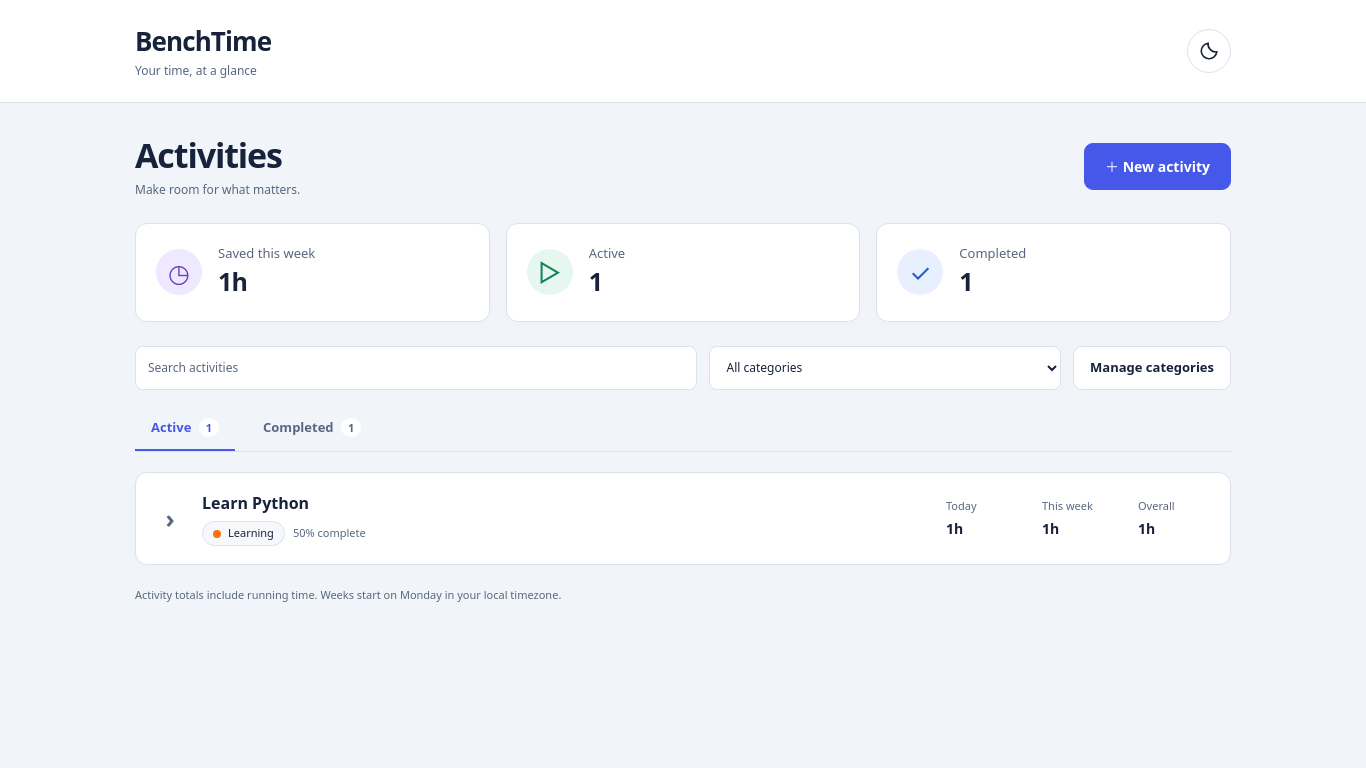
Test: redesigned dashboard › confirms deletion and preserves data on a concurrent timer conflict
What coordinates should you click on to do the following:
click the button with class "disclosure"
I would click on:
 (170, 518)
Its box is [148,496,192,540].
(page scrolled)
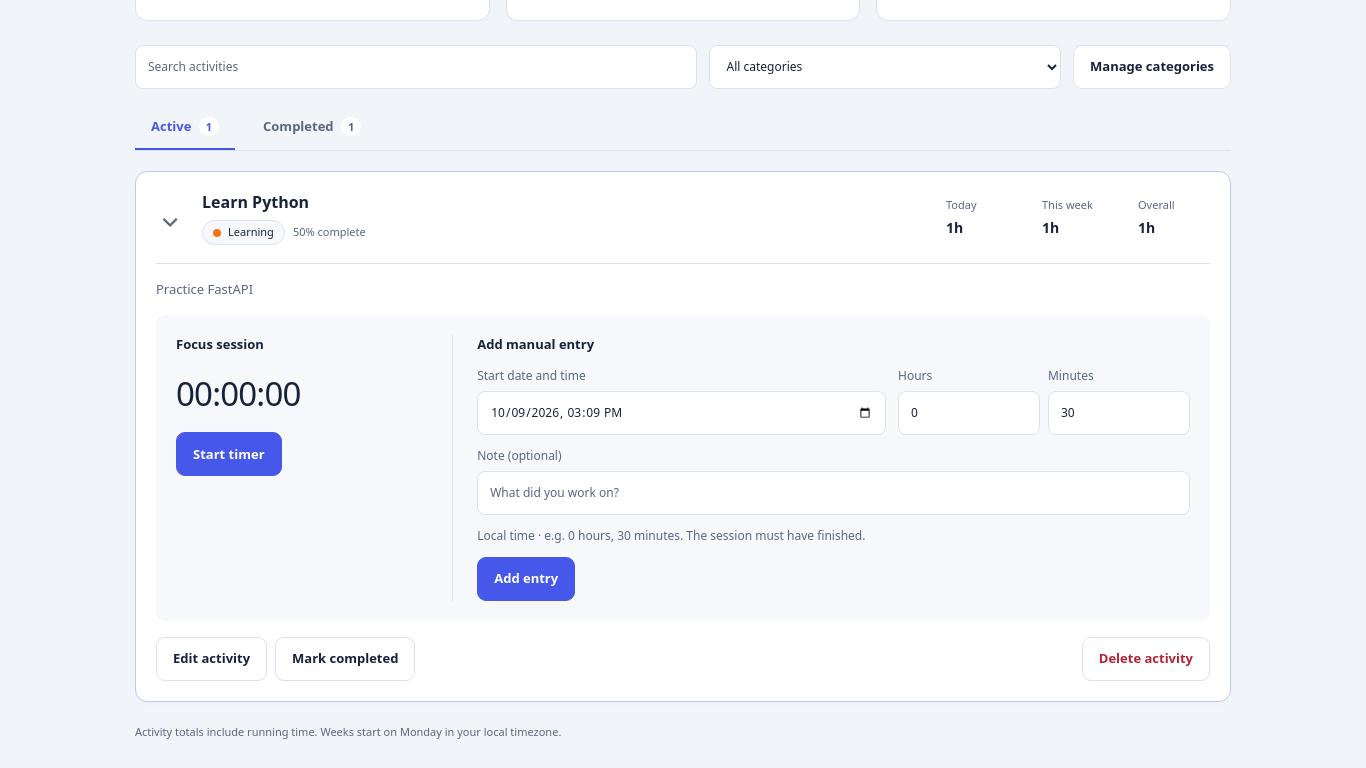
What coordinates should you click on to do the following:
click the button with class "delete-button"
I would click on:
 (1146, 659)
Its box is [1082,637,1210,681].
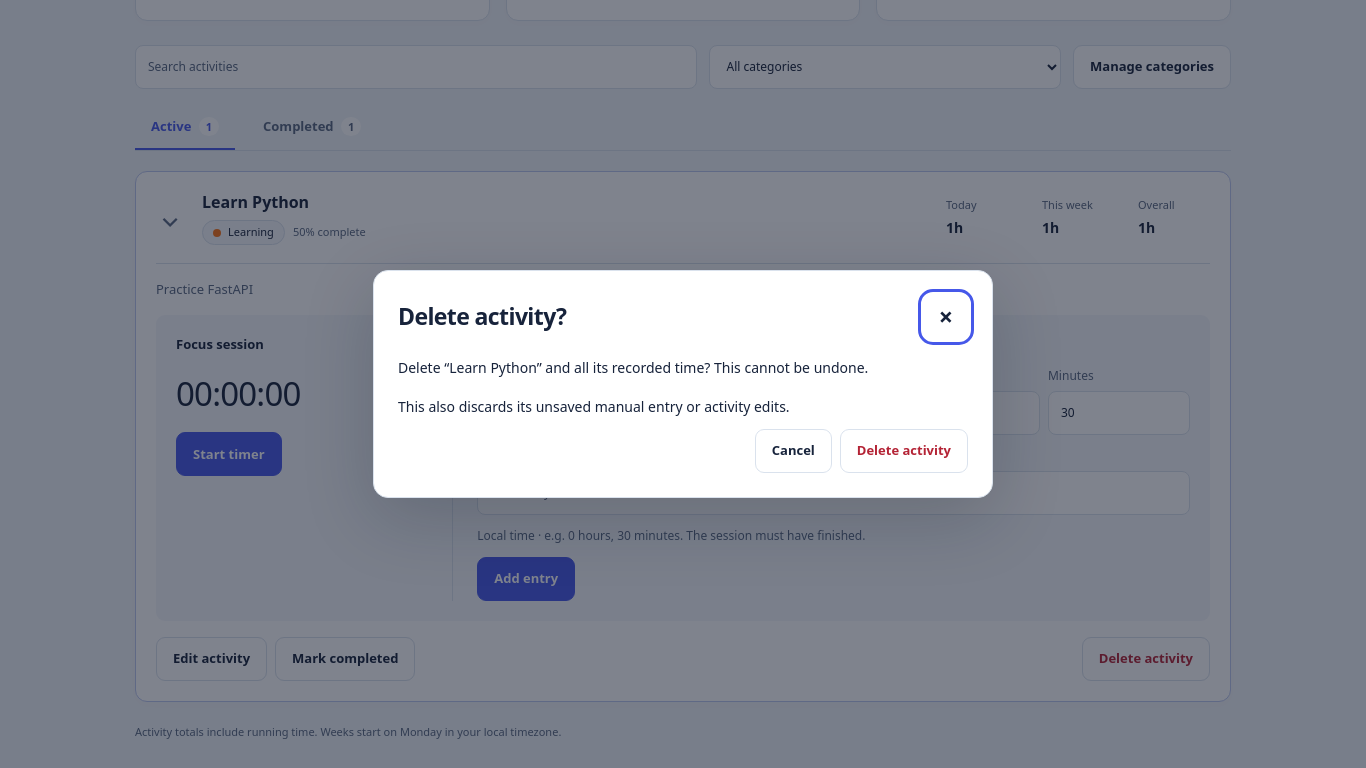
Result: the dialog shows "all its recorded time" at [398,358,868,377]
What coordinates should you click on to do the following:
click the button with test id "confirm-delete"
I would click on:
 (904, 451)
Its box is [840,429,968,473].
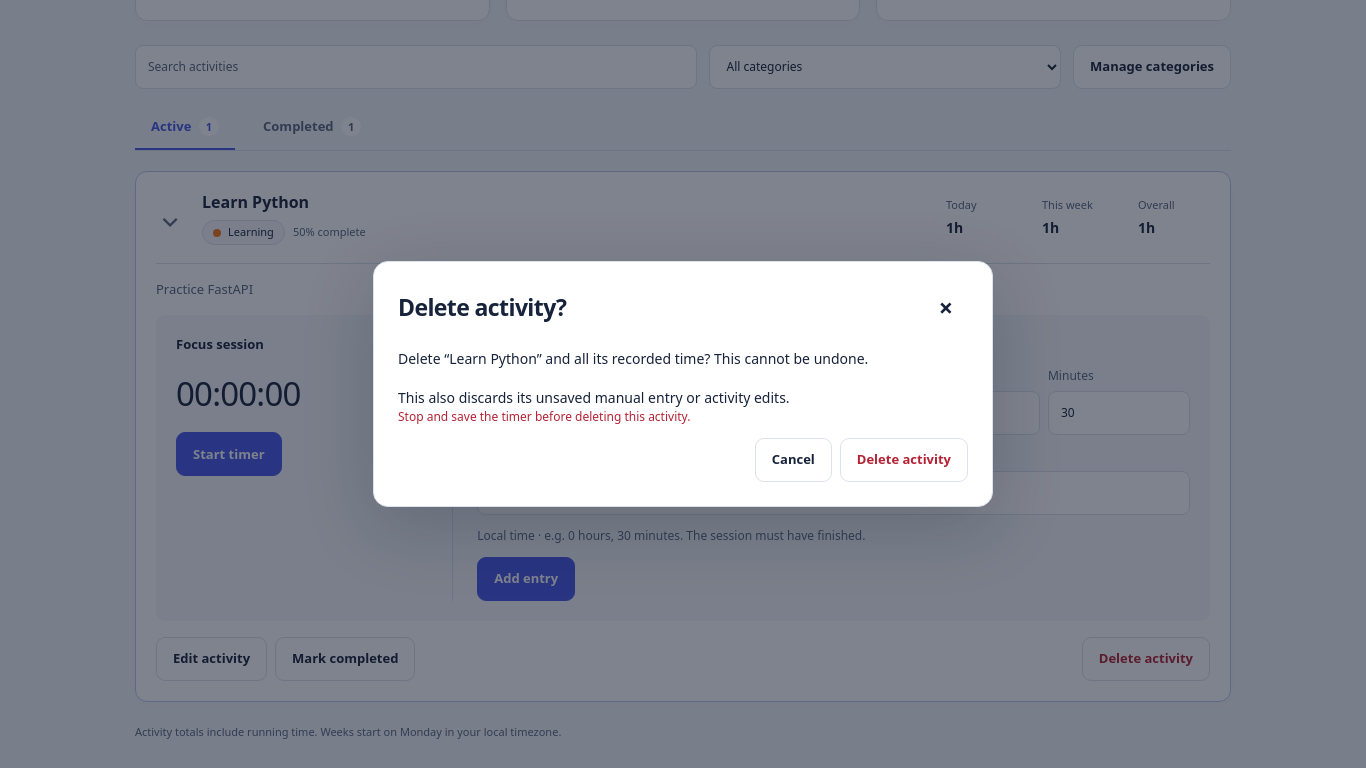
Result: the message "Stop and save the timer before deleting this activity." is shown at [398,408,690,425]
